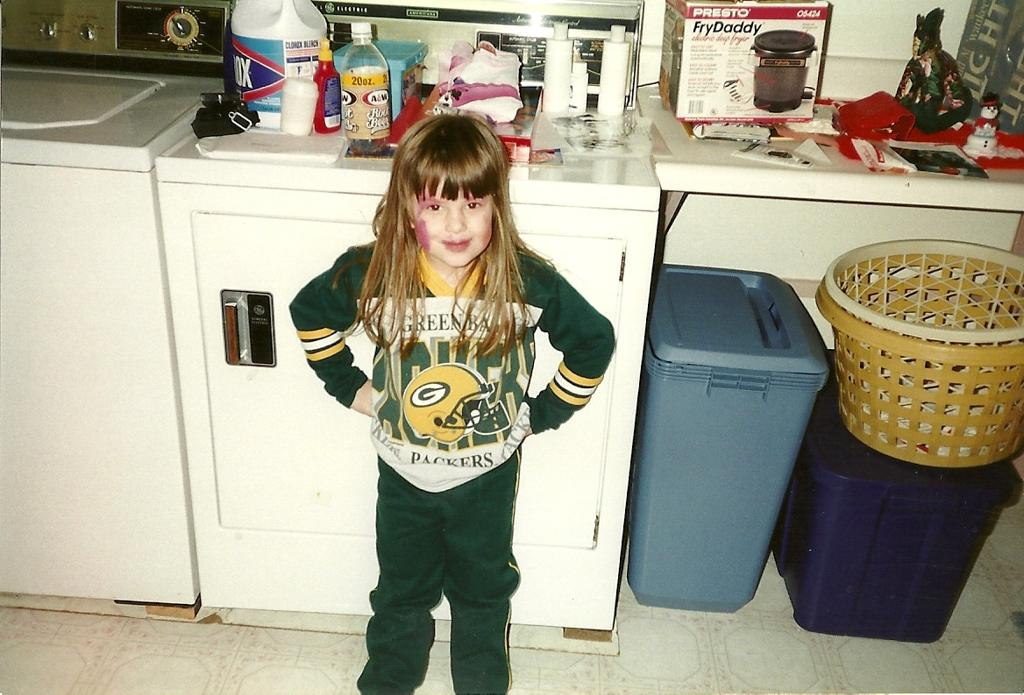face: (410, 170, 488, 268)
